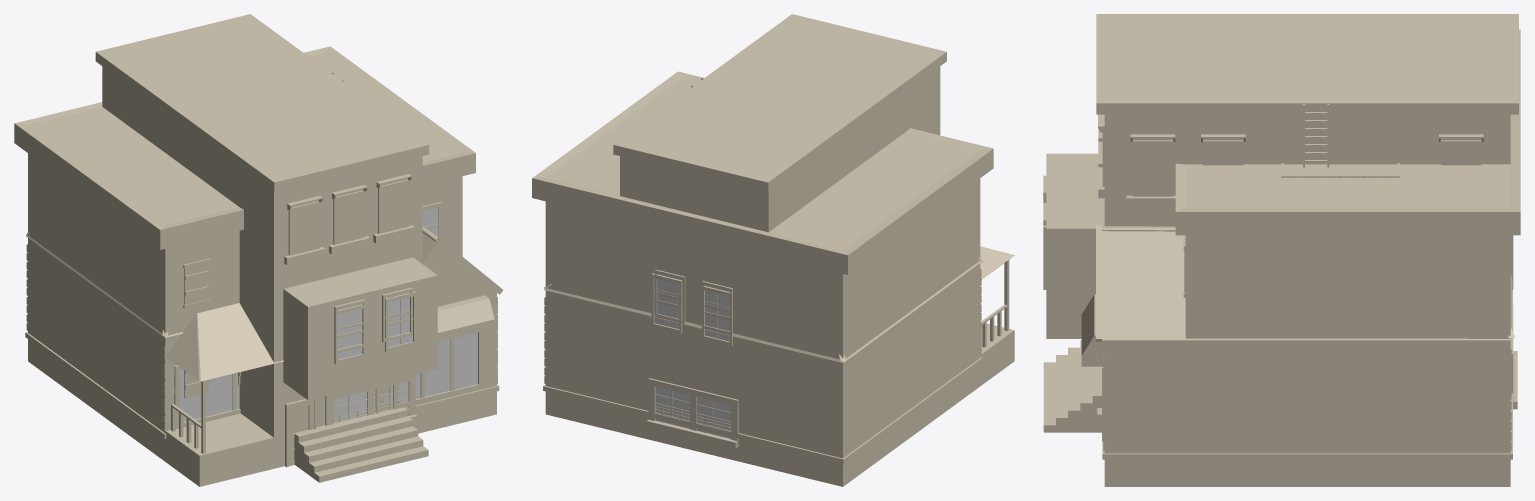
The model's file is house_03.fbx.
3 renders of one model, left to right at view 1: azimuth 30°, elevation 25°; view 2: azimuth 150°, elevation 25°; view 3: azimuth 270°, elevation 25°, orthographic. The views are drawn at different scales.
Visible parts, largest first — view 1: house_3zone_8, house_3zone_9, house_3zone_4, house_3zone_7, house_3zone_2, house_3zone_3, house_3zone_7_window, house_3zone_1; view 2: house_3zone_8, house_3zone_9, house_3zone_7, house_3zone_3, house_3zone_4, house_3zone_4_window, house_3zone_1, house_3zone_2; view 3: house_3zone_8, house_3zone_9, house_3zone_7, house_3zone_4, house_3zone_2, house_3zone_9_stair, house_3zone_3.
Boxes of the visible parts, x1,y1,x2,y2 form: house_3zone_8: (14, 46, 496, 486); house_3zone_9: (95, 14, 429, 468); house_3zone_4: (239, 257, 437, 400); house_3zone_7: (25, 226, 502, 458); house_3zone_2: (239, 257, 437, 399); house_3zone_3: (240, 367, 422, 468); house_3zone_7_window: (393, 331, 483, 409); house_3zone_1: (240, 369, 422, 466); house_3zone_8: (532, 71, 1014, 486); house_3zone_9: (613, 14, 946, 468); house_3zone_7: (543, 257, 982, 486); house_3zone_3: (620, 378, 768, 468); house_3zone_4: (620, 256, 768, 374); house_3zone_4_window: (702, 286, 732, 346); house_3zone_1: (620, 349, 768, 468); house_3zone_2: (622, 261, 758, 323); house_3zone_8: (1043, 29, 1520, 486); house_3zone_9: (1096, 14, 1518, 226); house_3zone_7: (1081, 224, 1514, 486); house_3zone_4: (1043, 153, 1513, 338); house_3zone_2: (1043, 175, 1174, 338); house_3zone_9_stair: (1281, 104, 1399, 177); house_3zone_3: (1097, 302, 1517, 421).
Size of the model in its own units: 10.62 by 9.31 by 11.76.
